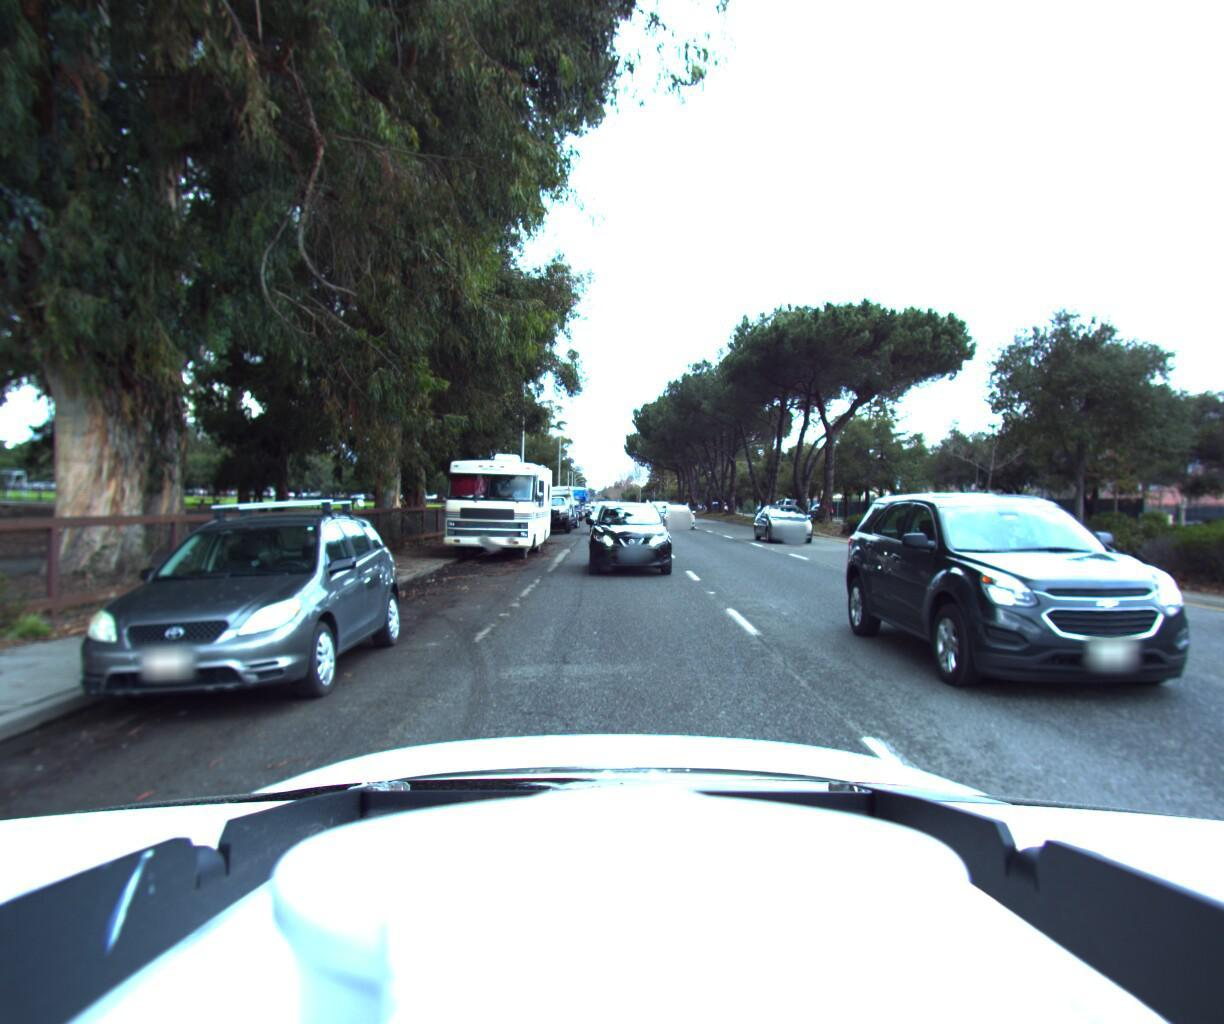car: (862, 463, 1224, 761), (23, 489, 414, 731), (579, 500, 673, 578), (749, 501, 830, 548), (516, 482, 575, 534), (660, 503, 697, 530), (764, 496, 798, 516)
other_vehicle: (436, 439, 552, 563), (549, 482, 589, 519)
